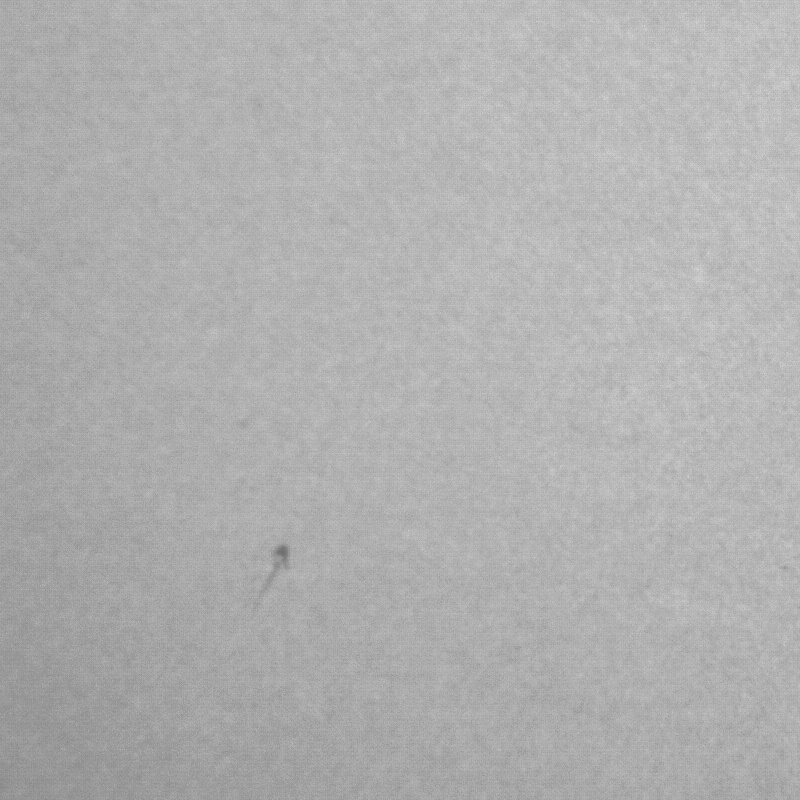defect: (250, 549, 285, 609)
